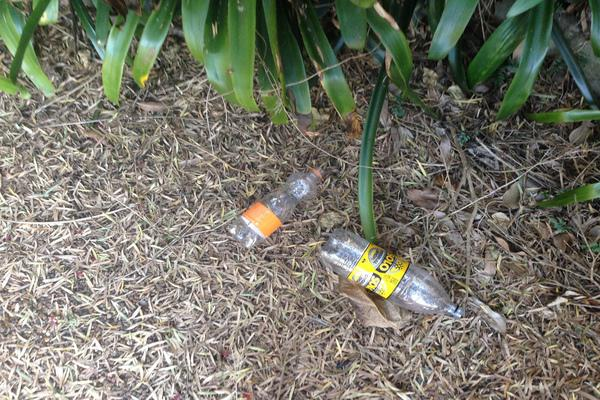Plastic Bottle: (318, 228, 462, 318), (225, 166, 322, 247)
